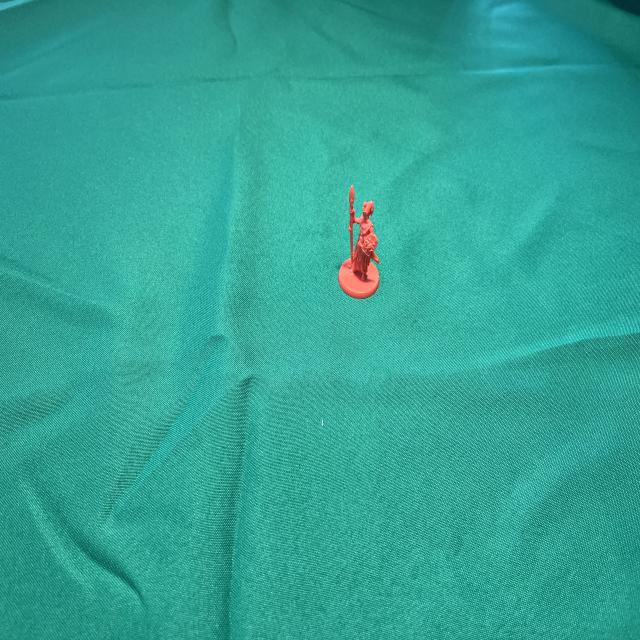amon_follower: (339, 187, 379, 298)
